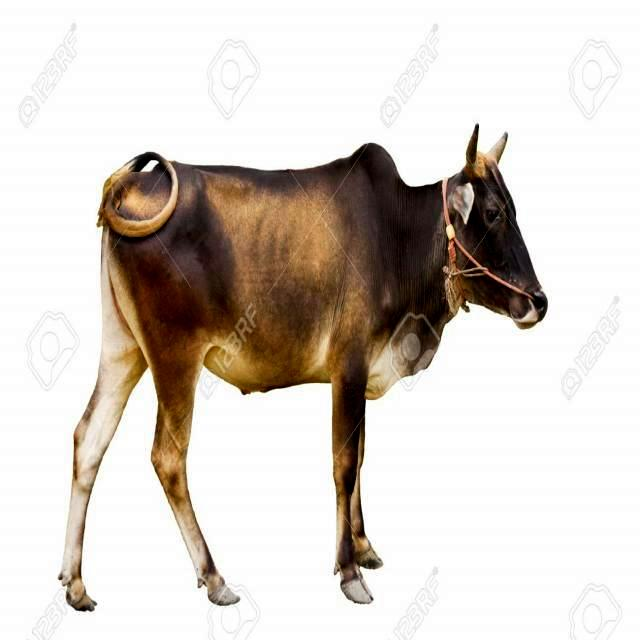COW: (60, 126, 548, 611)
